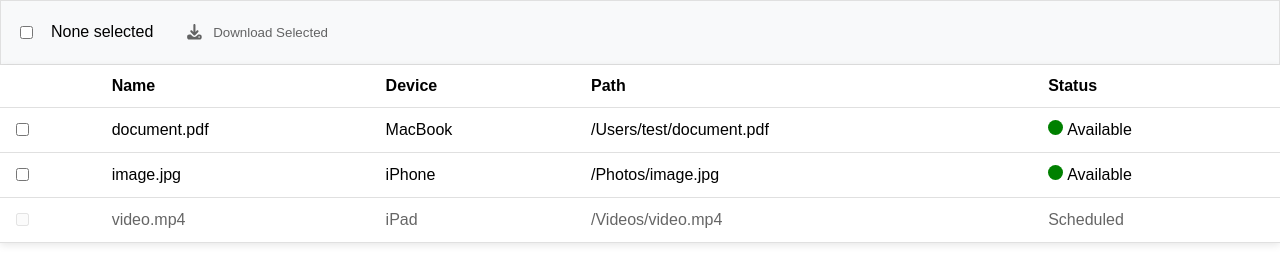
FileTable Component › allows selecting individual files
Click the checkbox named "Select document.pdf" at (22, 129), box [16,123,29,136]
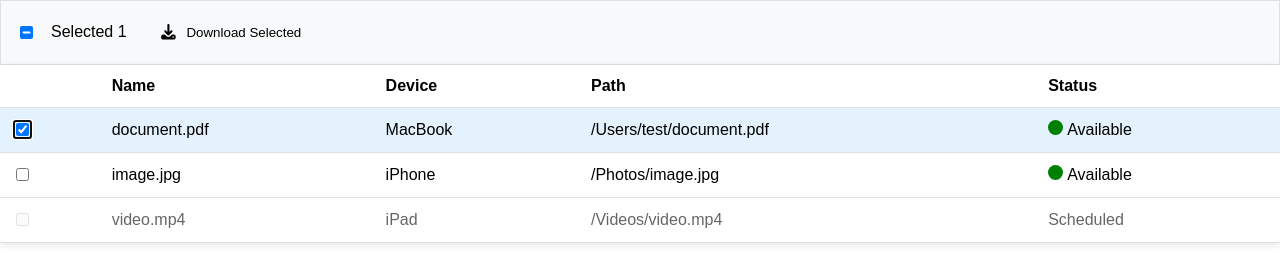
Check: the checkbox named "Select document.pdf" is checked, box [16,123,29,136]
Check: the text "Selected 1" is shown, box [51,23,127,41]
Check: the button "Download Selected" is enabled, box [142,16,317,49]
